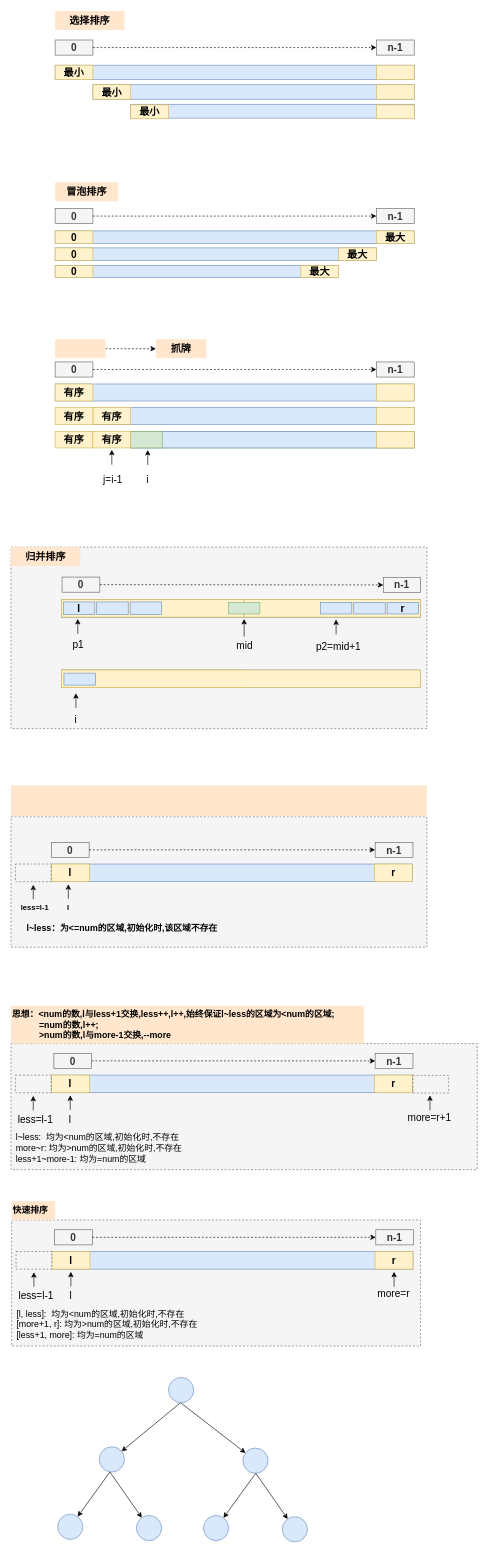
Image size: 488x1553. Some labels were removed from this diagram. The shapes that lost their labels are listed below. From the top down, each one's box as (x1, y1, x2, y2) in pixels, then its label:
(55, 339, 105, 358): 插入排序
(11, 785, 427, 816): 思想：<=num的数,与less+1交换,less++,l++,始终保证l~less的区域为<=num的区域; >num的数,l++
